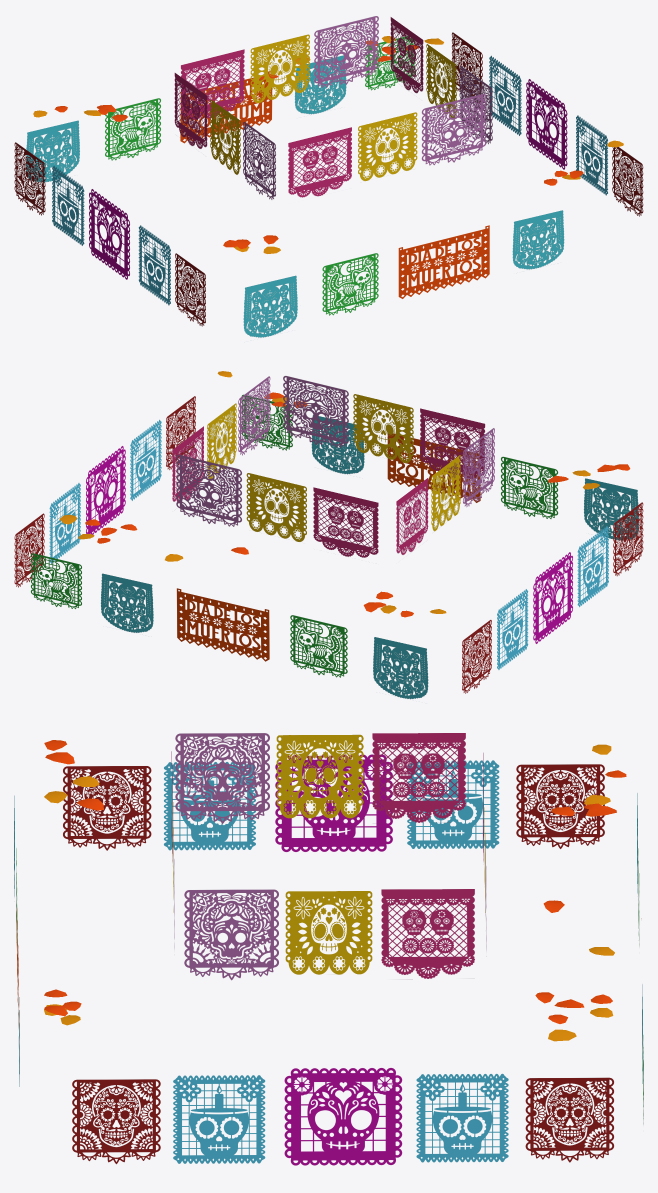
The model's file is ofrenda_anim.gltf.
3 renders of one model, top to bottom at view 1: azimuth 30°, elevation 25°; view 2: azimuth 150°, elevation 25°; view 3: azimuth 270°, elevation 25°, orthographic. The views are drawn at different scales.
Parts seen in each view (by area): view 1: Plane.018, Plane.027, Plane.030, Plane.029, Plane.028, Plane.031, Plane.026, Plane.022, Plane.019, Plane.017, Plane.020, Plane.013 (+19 smaller); view 2: Plane, Plane.030, Plane.027, Plane.026, Plane.031, Plane.028, Plane.029, Plane.017, Plane.005, Plane.022, Plane.008, Plane.020 (+20 smaller); view 3: Plane.013, Plane.003, Plane.023, Plane.024, Plane.004, Plane.014, Plane.011, Plane.002, Plane.025, Plane.015, Plane.012, Plane.007 (+4 smaller).
Part boxes in pixels (x1=…): Plane.018: x1=398, y1=225, x2=489, y2=298; Plane.027: x1=314, y1=16, x2=378, y2=87; Plane.030: x1=421, y1=94, x2=486, y2=165; Plane.029: x1=288, y1=127, x2=351, y2=197; Plane.028: x1=250, y1=34, x2=309, y2=103; Plane.031: x1=358, y1=112, x2=417, y2=181; Plane.026: x1=181, y1=49, x2=244, y2=119; Plane.022: x1=243, y1=275, x2=297, y2=337; Plane.019: x1=512, y1=210, x2=564, y2=269; Plane.017: x1=26, y1=120, x2=79, y2=182; Plane.020: x1=322, y1=253, x2=378, y2=315; Plane.013: x1=526, y1=79, x2=567, y2=169; Plane: x1=176, y1=588, x2=269, y2=661; Plane.030: x1=283, y1=376, x2=348, y2=447; Plane.027: x1=176, y1=455, x2=241, y2=526; Plane.026: x1=313, y1=487, x2=378, y2=557; Plane.031: x1=353, y1=394, x2=413, y2=462; Plane.028: x1=246, y1=473, x2=306, y2=541; Plane.029: x1=420, y1=408, x2=485, y2=478; Plane.017: x1=373, y1=637, x2=428, y2=699; Plane.005: x1=101, y1=573, x2=153, y2=632; Plane.022: x1=584, y1=478, x2=638, y2=540; Plane.008: x1=290, y1=615, x2=347, y2=677; Plane.020: x1=501, y1=456, x2=558, y2=518; Plane.013: x1=284, y1=1068, x2=402, y2=1165; Plane.003: x1=381, y1=889, x2=474, y2=979; Plane.023: x1=372, y1=733, x2=465, y2=823; Plane.024: x1=175, y1=733, x2=269, y2=823; Plane.004: x1=184, y1=889, x2=278, y2=980; Plane.014: x1=173, y1=1075, x2=265, y2=1163; Plane.011: x1=416, y1=1073, x2=508, y2=1162; Plane.002: x1=285, y1=891, x2=372, y2=974; Plane.025: x1=276, y1=734, x2=363, y2=818; Plane.015: x1=72, y1=1079, x2=160, y2=1164; Plane.012: x1=525, y1=1077, x2=613, y2=1162; Plane.007: x1=275, y1=754, x2=392, y2=851.
Size of the model in its own units: 5.96 by 1.88 by 4.99.
11 materials, 9 textured.
